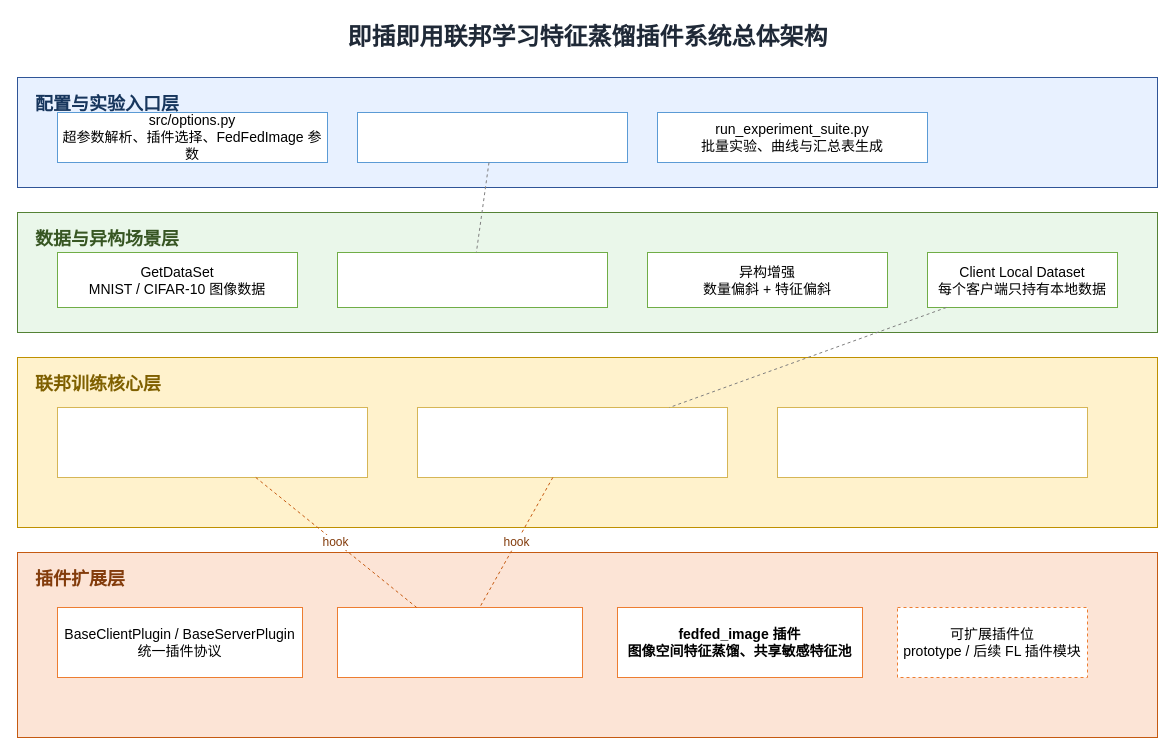
This 1175x755 diagram has some shape labels left out. The shapes that lost their labels are listed below. From the top down, each one's centre as x and y in pixels, then its label:
point 492,137: main.py 加载数据、划分客户端、启动训练器
point 472,280: get_each_client_data_index() IID / Dirichlet 标签偏斜
point 212,442: FedAvgTrainer / BaseFederated 客户端抽样、模型下发、参数聚合、全局测试
point 572,442: BaseClient 本地训练、模型参数上传、插件 payload 上传
point 932,442: Metrics / Plotting accuracy、loss、实验结果落盘
point 459,642: PLUGIN_REGISTRY plugin_name 动态解析与工厂创建
